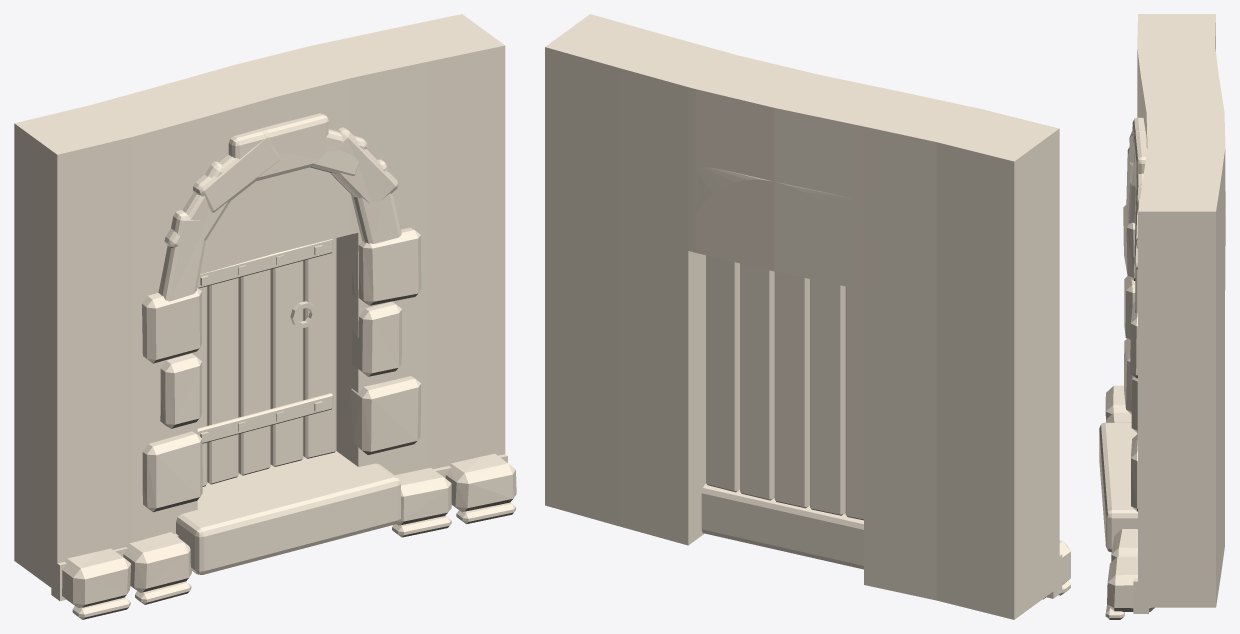
Rendered from SM_VK_Wall_StoneUp_Door.fbx.
3 renders of one model, left to right at view 1: azimuth 30°, elevation 25°; view 2: azimuth 150°, elevation 25°; view 3: azimuth 270°, elevation 25°, orthographic. The views are drawn at different scales.
Parts seen in each view (by area): view 1: SM_VK_Wall_StoneUp_Door.001; view 2: SM_VK_Wall_StoneUp_Door.001; view 3: SM_VK_Wall_StoneUp_Door.001.
Part boxes in pixels (x1=…): SM_VK_Wall_StoneUp_Door.001: x1=14, y1=14, x2=516, y2=619; SM_VK_Wall_StoneUp_Door.001: x1=545, y1=14, x2=1070, y2=619; SM_VK_Wall_StoneUp_Door.001: x1=1099, y1=14, x2=1225, y2=619.
Size of the model in its own units: 3 by 2.91 by 0.8112.
